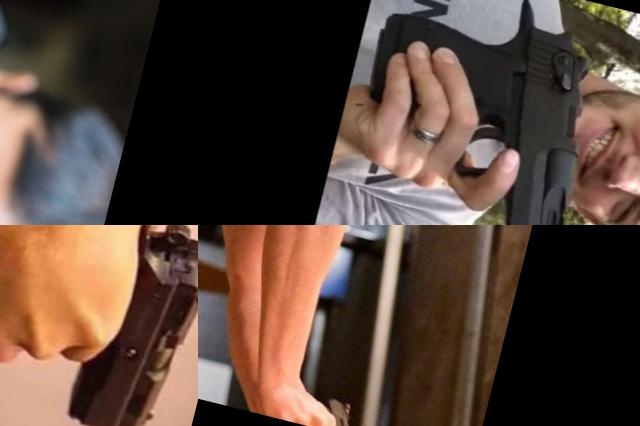handgun: (311, 0, 640, 225), (29, 225, 198, 426), (248, 378, 408, 426), (0, 155, 76, 225)
